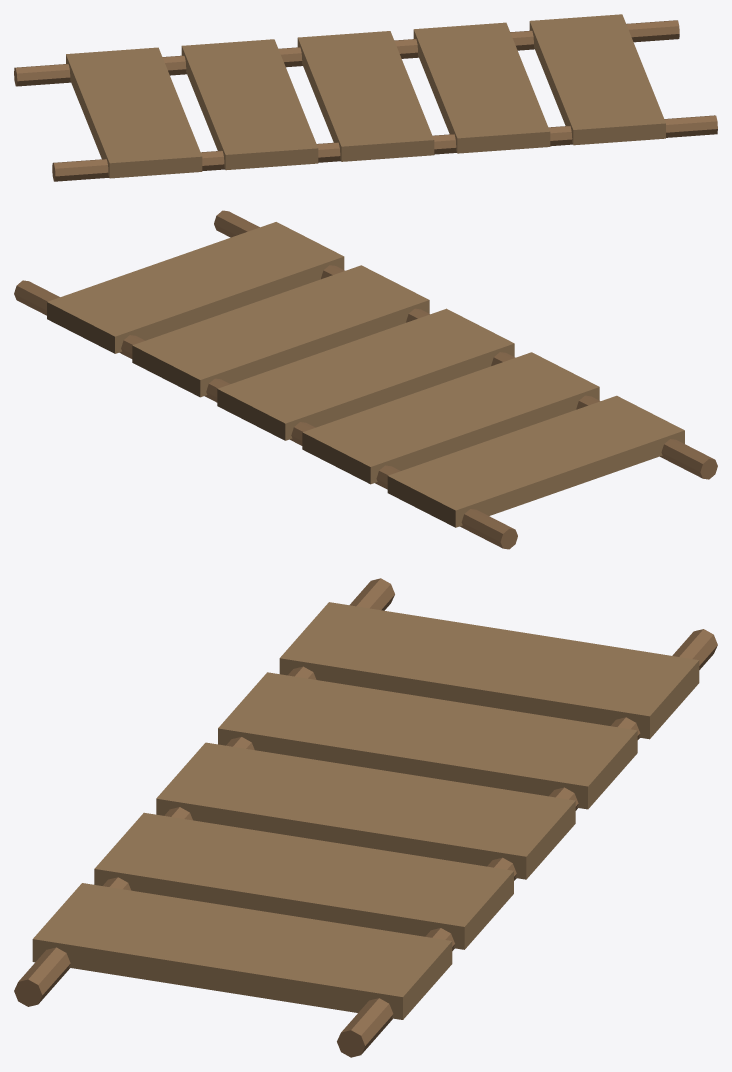
File: puente_principal_lev1.glb
The picture shows the model from 3 angles, top to bottom: view 1: azimuth 30°, elevation 25°; view 2: azimuth 150°, elevation 25°; view 3: azimuth 270°, elevation 25°; orthographic projection. The views are drawn at different scales.
Parts seen in each view (by area): view 1: puente_principal_lev1; view 2: puente_principal_lev1; view 3: puente_principal_lev1.
Boxes of the visible parts, <box> form: puente_principal_lev1: <box>14,14,717,181</box>; puente_principal_lev1: <box>14,210,717,549</box>; puente_principal_lev1: <box>14,578,717,1057</box>.
Bounding box in the file's own units: 4.27 × 0.14 × 2.78.
